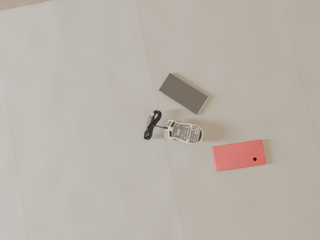mouse: (162, 120, 203, 144)
phone: (159, 73, 208, 115), (212, 140, 266, 171)
